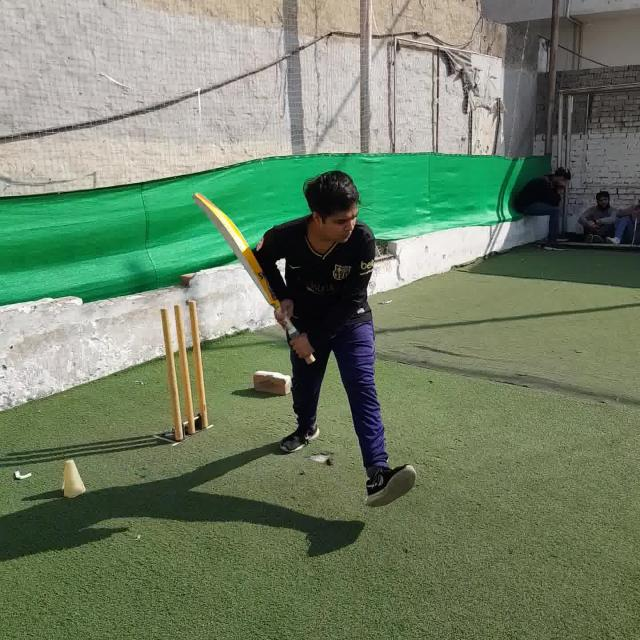bat: (194, 191, 315, 364)
